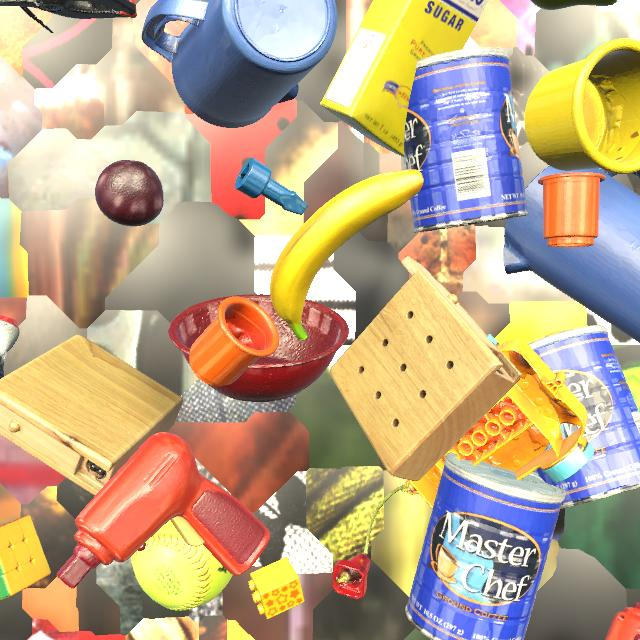ycb_002_master_chef_can: (405, 453, 566, 640), (404, 47, 529, 233), (528, 325, 640, 509)
ycb_004_sugar_box: (320, 0, 488, 157)
ycb_011_banana: (270, 170, 424, 341)
ycb_014_lemon: (545, 330, 566, 337)
ycb_016_pear: (530, 0, 617, 10)
ycb_018_plum: (95, 160, 164, 226)
